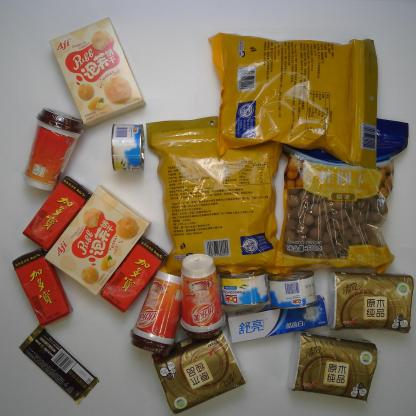Canned Food: (264, 266, 321, 312), (218, 262, 272, 308), (110, 122, 147, 175)
Chocolate: (15, 322, 102, 405)
Dessert: (42, 184, 151, 298), (47, 18, 148, 127)
Dried Food: (144, 112, 294, 281), (204, 30, 378, 171), (266, 108, 411, 277)
Drink: (96, 234, 169, 315), (20, 174, 94, 253), (11, 249, 73, 325)
Instant Drink: (20, 99, 85, 190), (129, 268, 187, 358), (174, 251, 228, 339)
Personal Hygiene: (223, 301, 331, 344)
Tissue: (151, 327, 247, 415), (284, 327, 379, 404), (325, 265, 414, 333)
